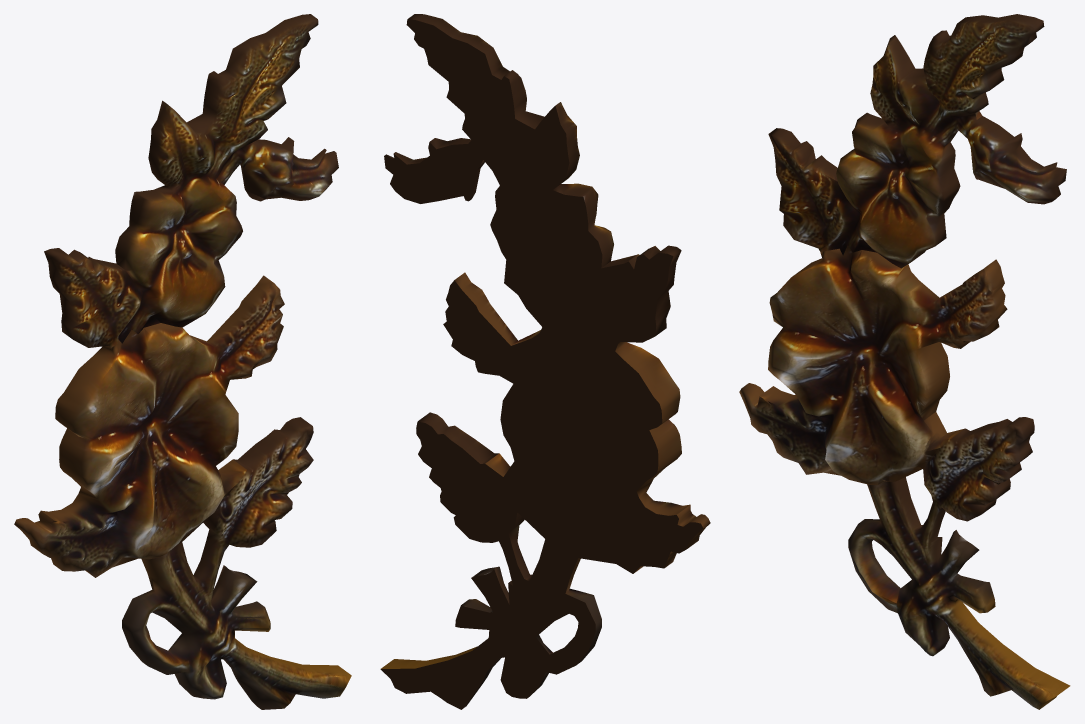
File: Art2669.fbx
3 views of the same model, side by side, from view 1: azimuth 30°, elevation 25°; view 2: azimuth 150°, elevation 25°; view 3: azimuth 330°, elevation 25° (orthographic).
Visible parts, largest first — view 1: Mesh_2; view 2: Mesh_2; view 3: Mesh_2.
Part boxes in pixels (bbox=[...]): Mesh_2: bbox=[14, 14, 351, 709]; Mesh_2: bbox=[380, 14, 710, 709]; Mesh_2: bbox=[739, 14, 1070, 709].
Size of the model in its own units: 11.52 by 23.12 by 1.68.
1 material, 1 textured.
